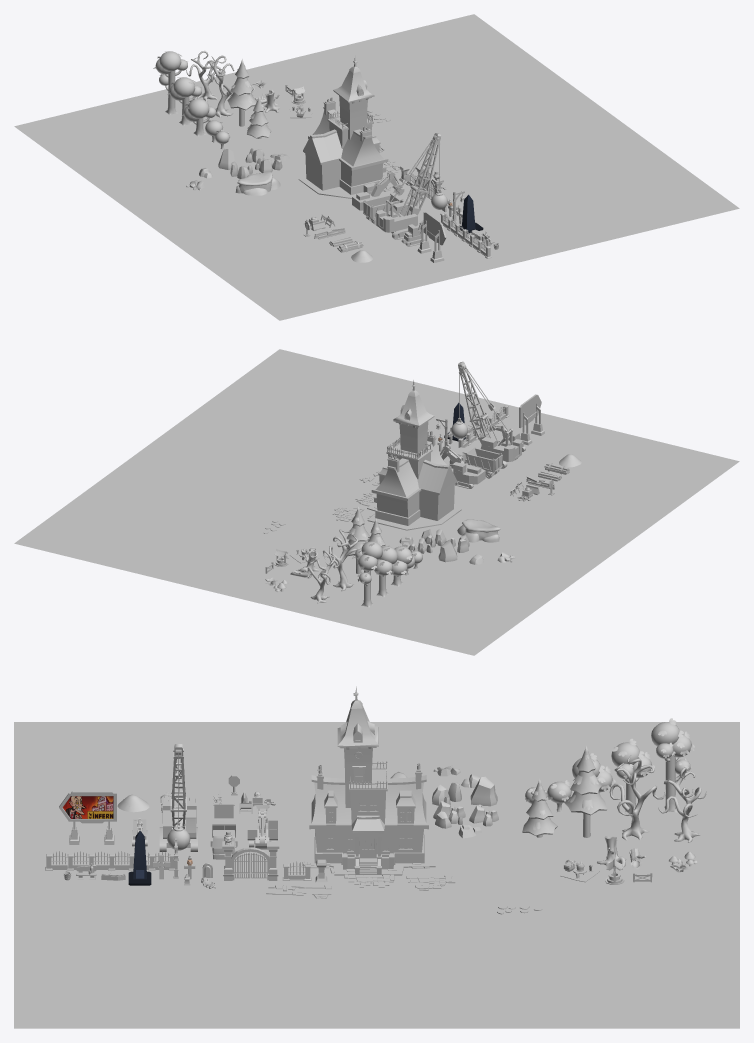
Rendered from Level_Library.fbx.
3 renders of one model, top to bottom at view 1: azimuth 30°, elevation 25°; view 2: azimuth 150°, elevation 25°; view 3: azimuth 270°, elevation 25°, orthographic. The views are drawn at different scales.
Visible parts, largest first — view 1: Plane124, Object1832, MLD_DemolitionMachineBall007, Object3455, Object3454, Object3449, Object3452, MDL_Tree_GreenTall007, MDL_TreeGreenTall009, pCube3.067, Object3451, MDL_Tree_GreenMedium009 (+8 smaller); view 2: Plane124, Object1832, MLD_DemolitionMachineBall007, Object3455, Object3449, Object3454, MDL_Tree_GreenTall007, MDL_DumperTruck_A025, pCube3.067, MDL_TreeA017, MDL_Excavator_A018, MDL_Tree_GreenMedium009 (+8 smaller); view 3: Plane124, Object1832, Object3455, Object3449, Object3454, MLD_DemolitionMachineBall007, Object3452, MDL_Tree_GreenTall007, MDL_TreeGreenTall009, pillar002, MDL_NecromancersHouse002, Object3451 (+15 smaller).
Boxes of the visible parts, x1,y1,x2,y2 form: Plane124: (14, 14, 739, 320); Object1832: (298, 55, 391, 198); MLD_DemolitionMachineBall007: (376, 133, 447, 239); Object3455: (544, 188, 614, 229); Object3454: (503, 156, 582, 182); Object3449: (380, 125, 454, 169); Object3452: (496, 210, 560, 245); MDL_Tree_GreenTall007: (153, 51, 187, 115); MDL_TreeGreenTall009: (227, 59, 256, 126); pCube3.067: (235, 171, 280, 195); Object3451: (461, 185, 512, 211); MDL_Tree_GreenMedium009: (167, 77, 201, 125); Plane124: (14, 349, 739, 655); Object1832: (367, 380, 461, 530); MLD_DemolitionMachineBall007: (451, 361, 521, 468); Object3455: (320, 391, 405, 425); Object3449: (279, 476, 351, 519); Object3454: (262, 421, 341, 453); MDL_Tree_GreenTall007: (354, 541, 382, 607); MDL_DumperTruck_A025: (449, 446, 502, 478); pCube3.067: (457, 519, 500, 542); MDL_TreeA017: (323, 529, 358, 591); MDL_Excavator_A018: (452, 457, 485, 488); MDL_Tree_GreenMedium009: (373, 545, 397, 596); Plane124: (14, 722, 739, 1028); Object1832: (302, 686, 435, 875); Object3455: (57, 929, 190, 969); Object3449: (327, 897, 483, 921); Object3454: (198, 931, 292, 980); MLD_DemolitionMachineBall007: (159, 744, 197, 851); Object3452: (42, 897, 166, 921); MDL_Tree_GreenTall007: (651, 718, 694, 812); MDL_TreeGreenTall009: (564, 745, 607, 837); pillar002: (222, 841, 279, 880); MDL_NecromancersHouse002: (45, 851, 174, 870); Object3451: (170, 897, 260, 921).
Bounding box in the file's own units: 8800 × 2323 × 8800.
